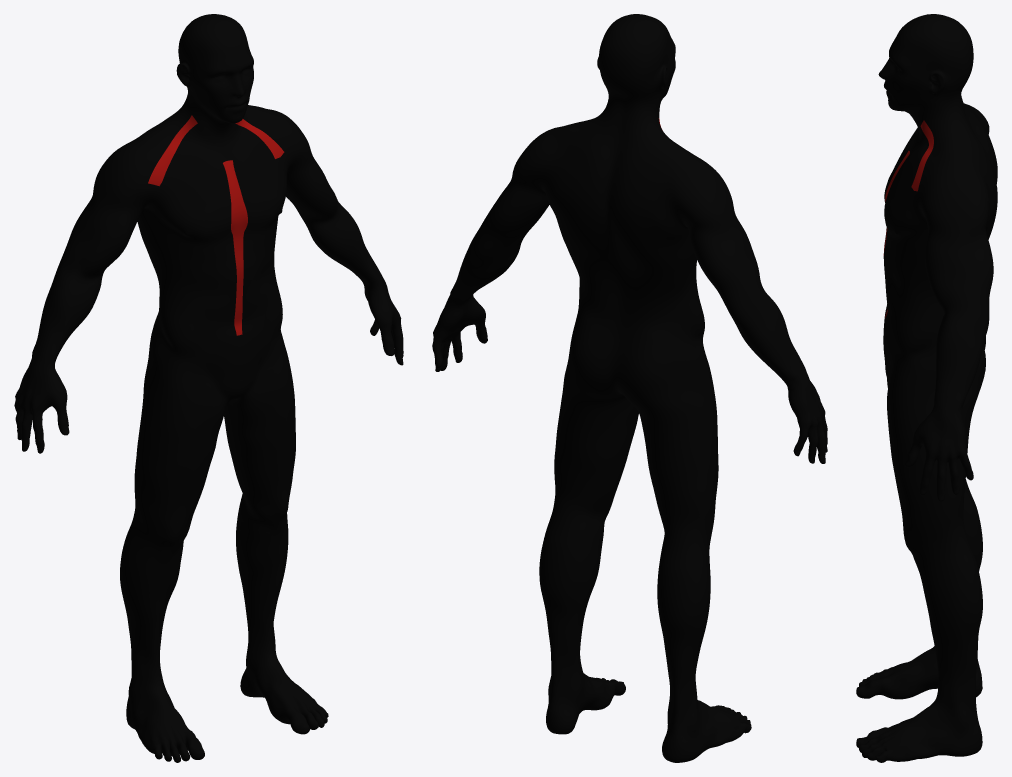
File: Human.glb
3 views of the same model, side by side, from view 1: azimuth 30°, elevation 25°; view 2: azimuth 150°, elevation 25°; view 3: azimuth 270°, elevation 25° (orthographic).
Parts seen in each view (by area): view 1: FinalBaseMesh; view 2: FinalBaseMesh; view 3: FinalBaseMesh.
Boxes of the visible parts, bbox=[...] form: FinalBaseMesh: bbox=[14, 14, 403, 762]; FinalBaseMesh: bbox=[432, 14, 827, 762]; FinalBaseMesh: bbox=[856, 14, 997, 762].
Bounding box in the file's own units: 1.27 × 2.25 × 0.4082.
